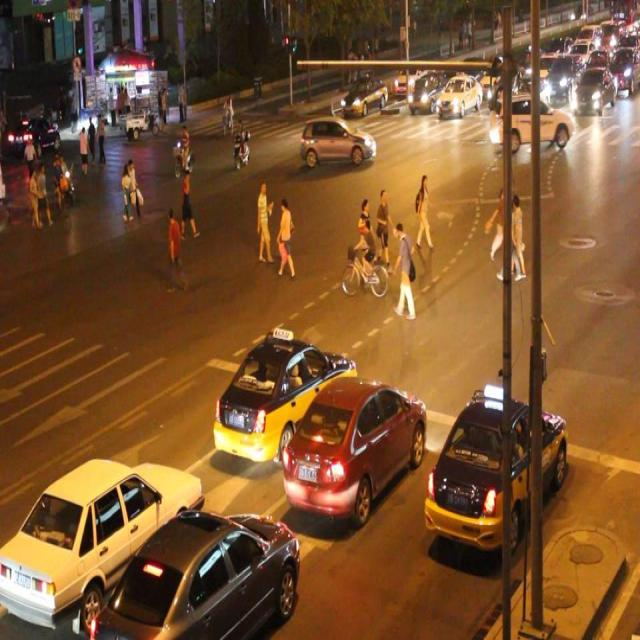car: (1, 455, 202, 628), (94, 513, 299, 640), (423, 391, 567, 554), (284, 382, 424, 522), (214, 336, 355, 463), (489, 95, 571, 150), (300, 116, 375, 167), (436, 74, 478, 119), (341, 76, 387, 115), (406, 68, 444, 112)
